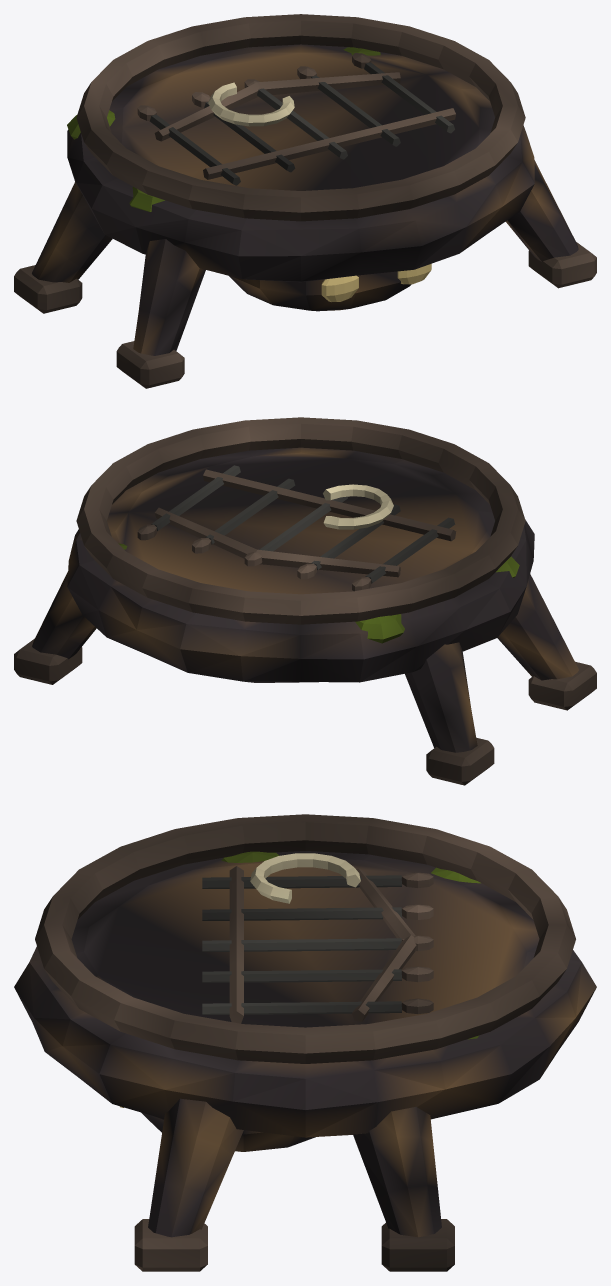
Rendered from coin_crawler.fbx.
The picture shows the model from 3 angles, top to bottom: view 1: azimuth 30°, elevation 25°; view 2: azimuth 150°, elevation 25°; view 3: azimuth 270°, elevation 25°; orthographic projection. The views are drawn at different scales.
Visible parts, largest first — view 1: coin_crawler; view 2: coin_crawler; view 3: coin_crawler.
Boxes of the visible parts, x1,y1,x2,y2 form: coin_crawler: (14, 14, 596, 388); coin_crawler: (14, 417, 596, 785); coin_crawler: (14, 814, 596, 1271).
Size of the model in its own units: 2.77 by 1.15 by 2.54.
